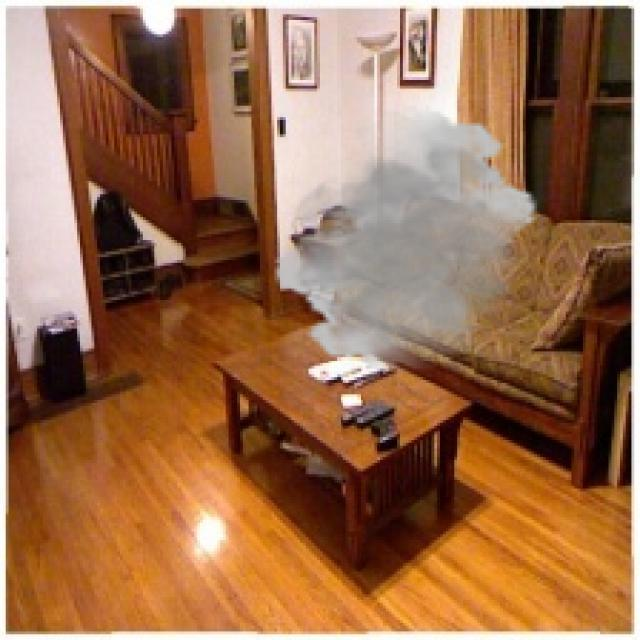Smoke: (271, 106, 540, 374)
